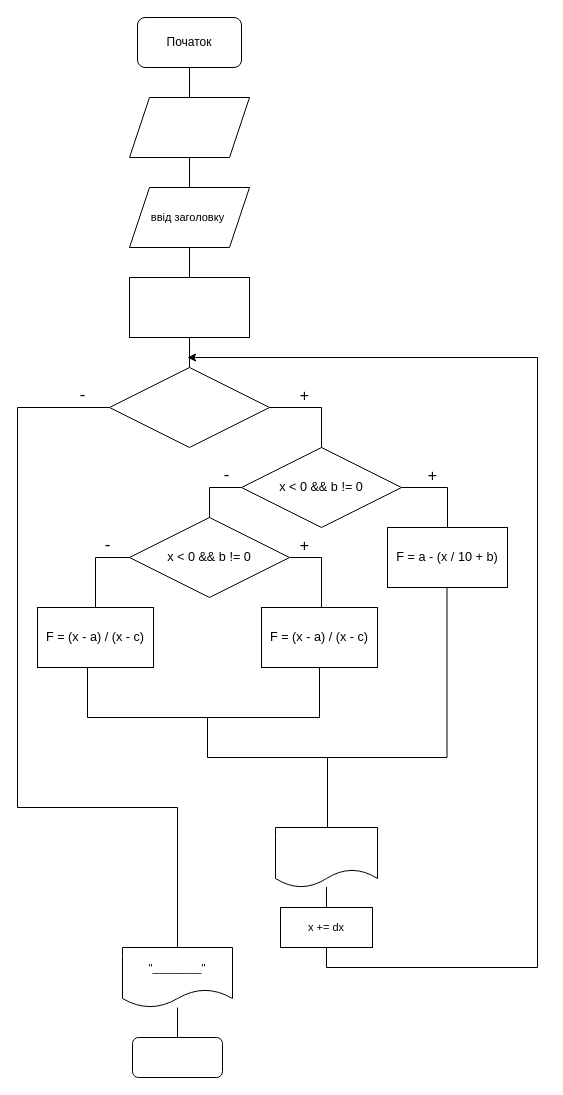
Some shapes in this 563 by 1095 pixel diagram are drawn without their labels. Here are the shapes that lost their labels. From the top down, the centre of each, then its label:
pixel 189 127: a, b, c, xp, xk, dx
pixel 189 307: x=xp
pixel 189 407: x <= xk
pixel 326 857: x , F
pixel 177 1057: кінець
